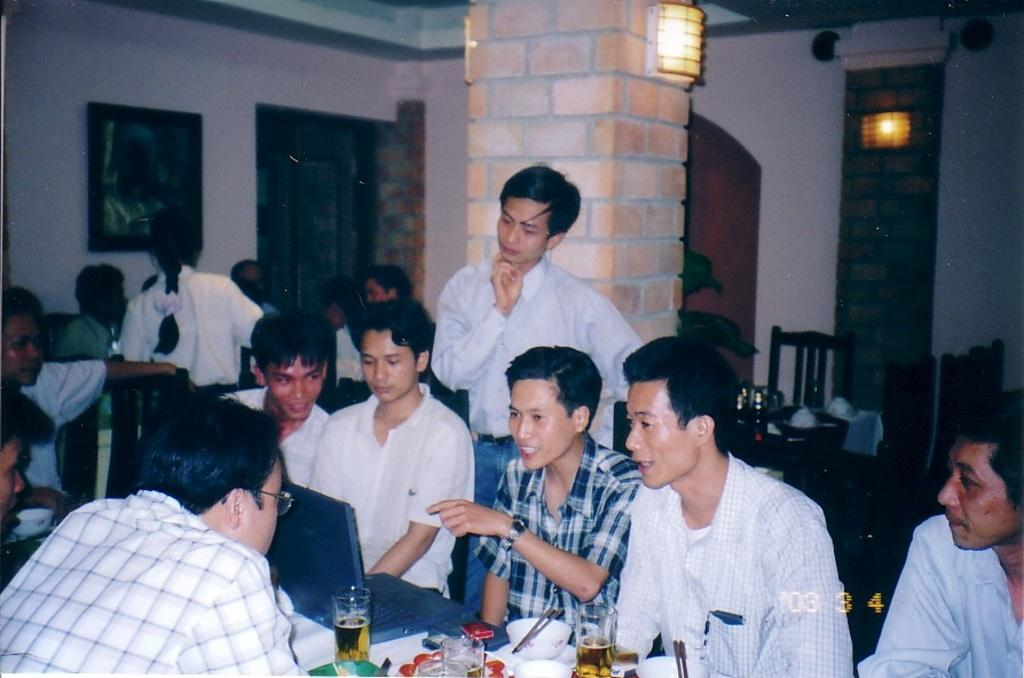Sem Máscara: (935, 435, 1016, 547), (625, 381, 697, 487), (504, 378, 567, 471), (357, 325, 415, 399), (237, 460, 279, 555), (496, 195, 548, 260), (266, 357, 319, 417), (1, 306, 41, 383), (0, 438, 25, 518)
